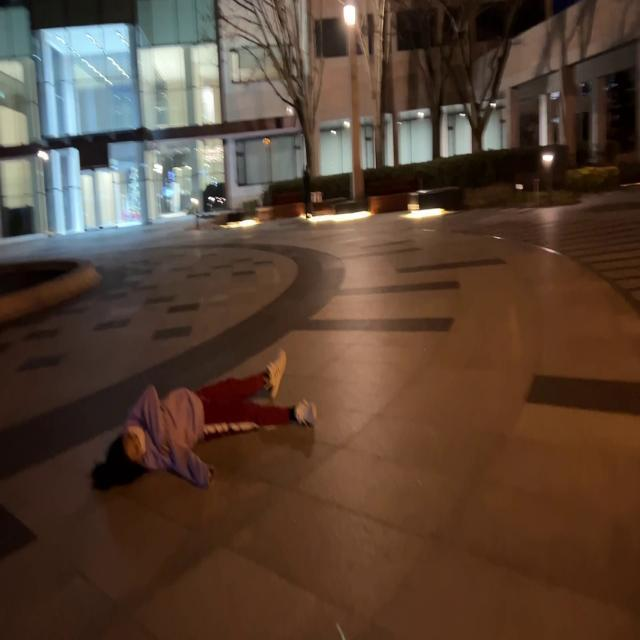Fall: (92, 351, 317, 490)
